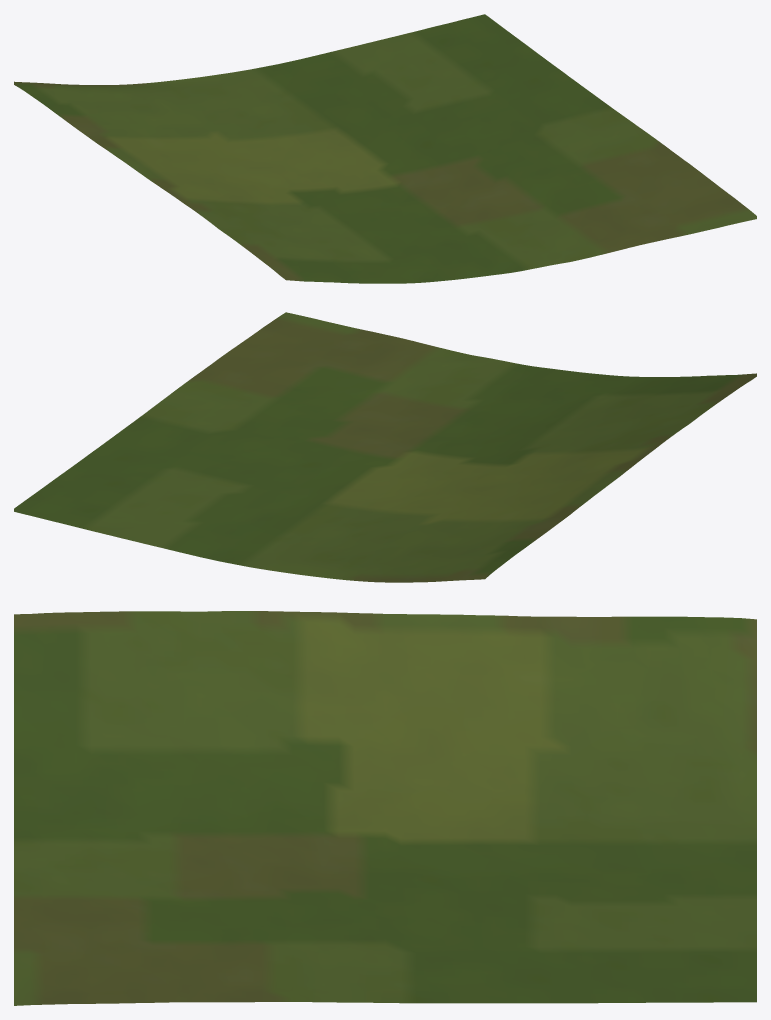
Rendered from land_m_07_06.glb.
3 renders of one model, top to bottom at view 1: azimuth 30°, elevation 25°; view 2: azimuth 150°, elevation 25°; view 3: azimuth 270°, elevation 25°, orthographic. The views are drawn at different scales.
Parts seen in each view (by area): view 1: land_m_07_06; view 2: land_m_07_06; view 3: land_m_07_06.
Boxes of the visible parts, bbox=[...] form: land_m_07_06: bbox=[14, 14, 756, 283]; land_m_07_06: bbox=[14, 312, 756, 582]; land_m_07_06: bbox=[14, 611, 756, 1005].
Size of the model in its own units: 960 by 115 by 960.
